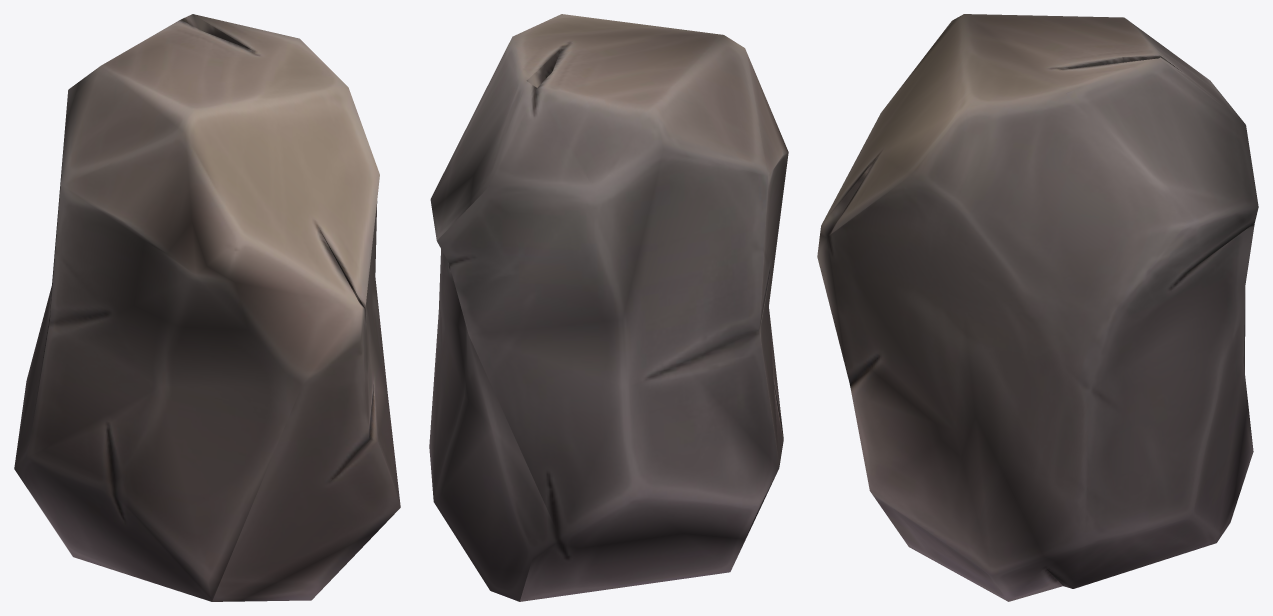
File: Final rock1.fbx
3 renders of one model, left to right at view 1: azimuth 30°, elevation 25°; view 2: azimuth 150°, elevation 25°; view 3: azimuth 270°, elevation 25°, orthographic.
Parts seen in each view (by area): view 1: Rocks1_LOD0; view 2: Rocks1_LOD0; view 3: Rocks1_LOD0.
Boxes of the visible parts, x1=… form: Rocks1_LOD0: x1=14, y1=14, x2=400, y2=601; Rocks1_LOD0: x1=429, y1=14, x2=788, y2=601; Rocks1_LOD0: x1=817, y1=14, x2=1258, y2=601.
Size of what is drawn, in the model's own units: 1.31 by 1.86 by 1.48.
Materials: 1 (1 with a texture image).
